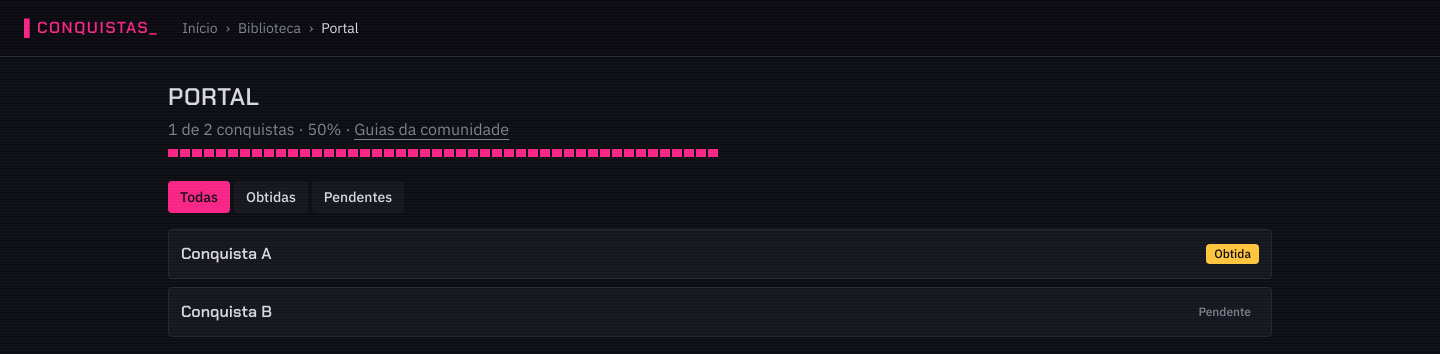
Test case: GameDetail › filtra por status sem novo request ao servidor
This screenshot has width=1440, height=354.
Expected: the text "Conquista A" is shown, x1=181 y1=242 x2=271 y2=266
Expected: the text "Conquista B" is shown, x1=181 y1=300 x2=272 y2=324
Click the tab "Pendentes": (358, 197) x1=312 y1=181 x2=404 y2=213
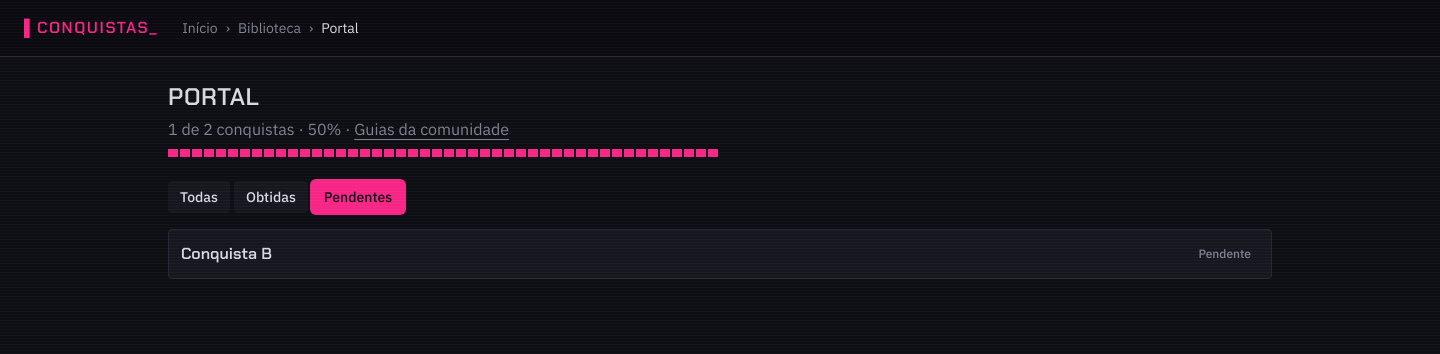
Expected: the text "Conquista B" is shown, x1=181 y1=242 x2=272 y2=266
Now the text "Conquista A" is gone
